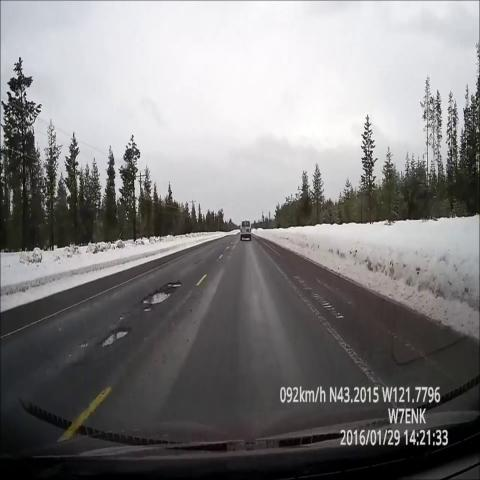pothole: (137, 278, 186, 316), (92, 328, 143, 355)
